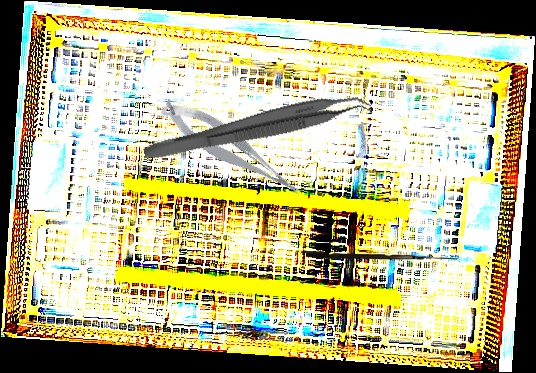Hook Surgical: (306, 251, 457, 260)
Micro Scissor: (156, 85, 306, 215)
Tissue Forceps: (141, 84, 374, 175)
